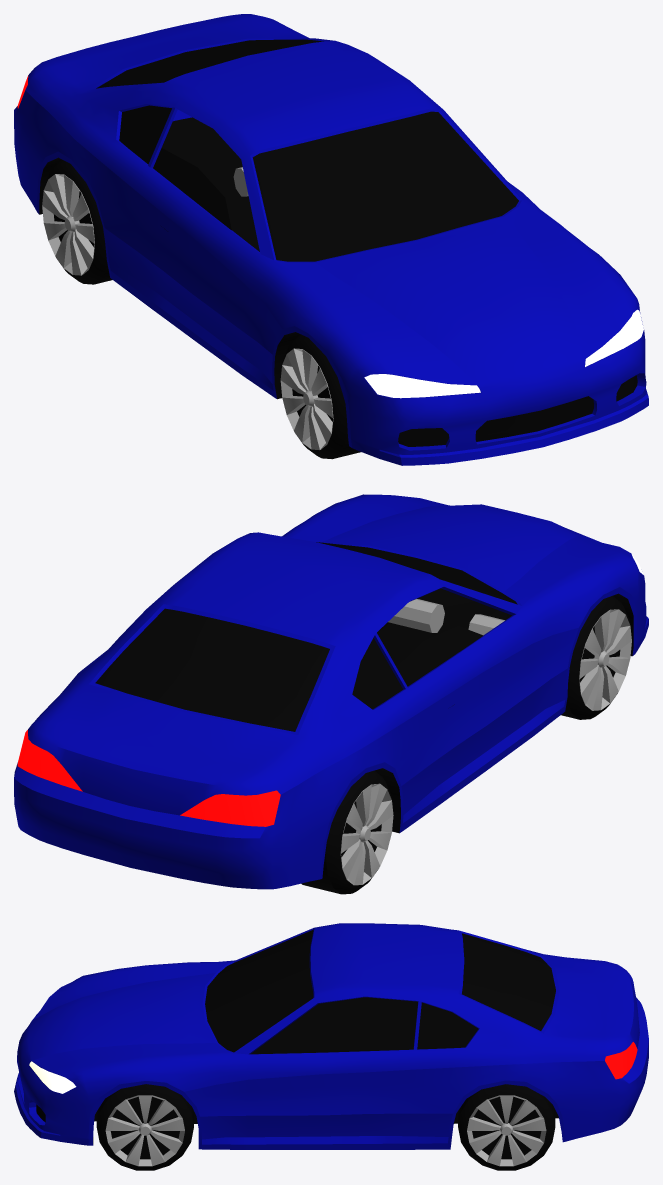
The model's file is nissan.fbx.
3 renders of one model, top to bottom at view 1: azimuth 30°, elevation 25°; view 2: azimuth 150°, elevation 25°; view 3: azimuth 270°, elevation 25°, orthographic. The views are drawn at different scales.
Visible parts, largest first — view 1: Silvia, FR_Wheel, BR_Wheel, Silvia.001; view 2: Silvia, BR_Wheel, FR_Wheel, Silvia.001; view 3: Silvia, BL_Wheel, FL_Wheel.
Boxes of the visible parts, left/top/right/bottom form: Silvia: left=14, top=14, right=648, bottom=465; FR_Wheel: left=280, top=334, right=360, bottom=459; BR_Wheel: left=42, top=160, right=112, bottom=284; Silvia.001: left=153, top=148, right=231, bottom=231; Silvia: left=14, top=494, right=648, bottom=889; BR_Wheel: left=301, top=770, right=393, bottom=894; FR_Wheel: left=561, top=596, right=631, bottom=719; Silvia.001: left=396, top=626, right=483, bottom=705; Silvia: left=14, top=923, right=648, bottom=1149; BL_Wheel: left=458, top=1084, right=555, bottom=1170; FL_Wheel: left=96, top=1084, right=193, bottom=1170.
Size of the model in its own units: 186 by 130 by 449.
